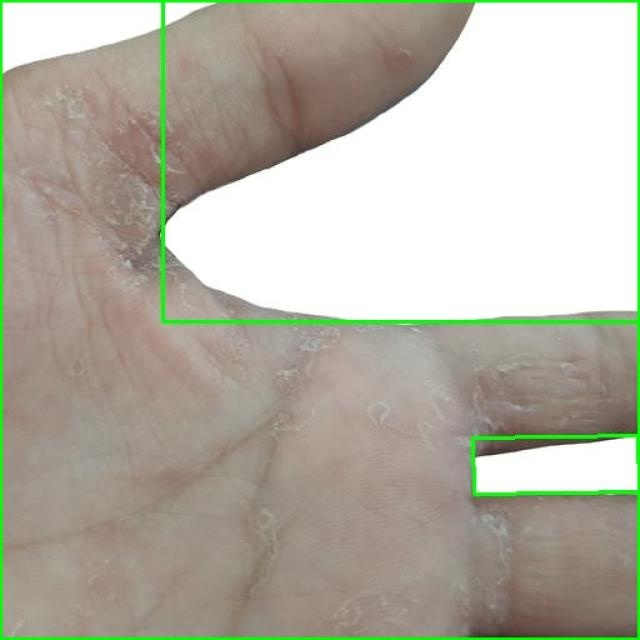Scabies: (0, 0, 639, 639), (162, 0, 639, 321), (473, 436, 639, 494)
